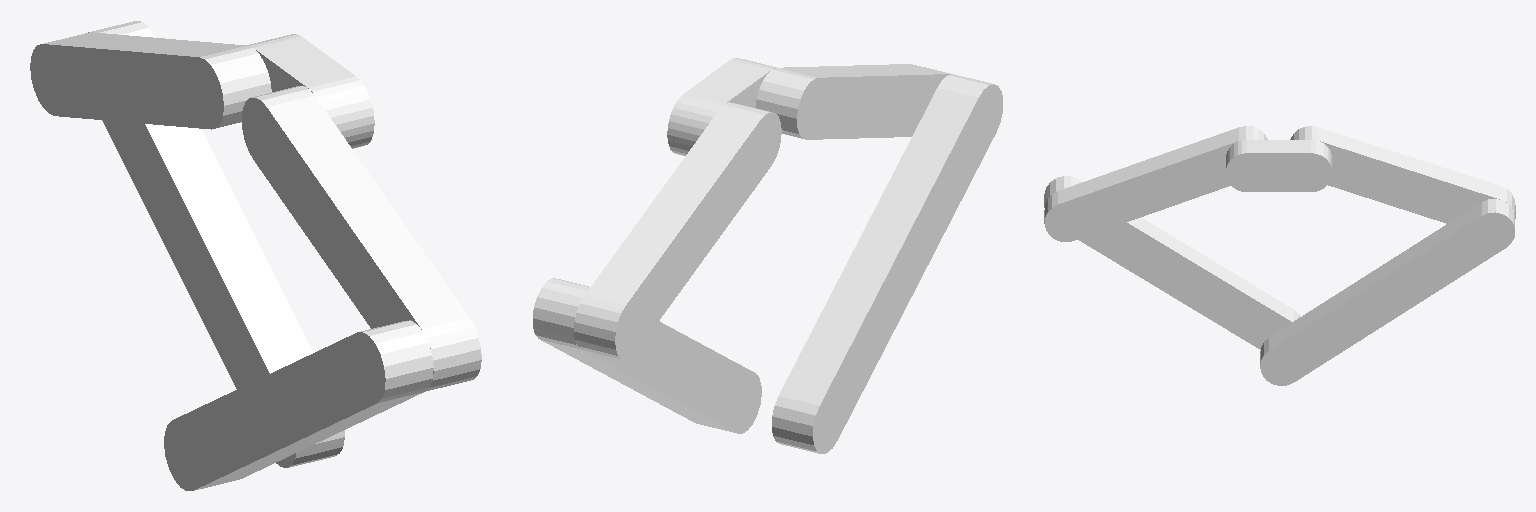
robot.urdf — FiveBarLink:
<?xml version="1.0"?>
<!-- This URDF was automatically created by SolidWorks to URDF Exporter! Originally created by [author] ([email redacted]) 
     Commit Version: 1.6.0-4-g7f85cfe  Build Version: 1.6.7995.38578
     For more information, please see http://wiki.ros.org/sw_urdf_exporter -->
<robot
  name="FiveBarLink">
  <link
    name="base_link">
    <inertial>
      <origin
        xyz="-0.0075 -1.73472347597681E-18 8.67361737988404E-19"
        rpy="0 0 0" />
      <mass
        value="0.0135623889803847" />
      <inertia
        ixx="2.78766795156418E-06"
        ixy="-1.71652986887127E-23"
        ixz="2.95359259330312E-23"
        iyy="6.6710451789183E-07"
        iyz="1.1172040840076E-22"
        izz="2.62915302043677E-06" />
    </inertial>
    <visual>
      <origin
        xyz="0 0 0"
        rpy="0 0 0" />
      <geometry>
        <mesh
          filename="package://five_bar_link/meshes/base_link.STL" />
      </geometry>
      <material
        name="">
        <color
          rgba="1 1 1 1" />
      </material>
    </visual>
    <collision>
      <origin
        xyz="0 0 0"
        rpy="0 0 0" />
      <geometry>
        <mesh
          filename="package://five_bar_link/meshes/base_link.STL" />
      </geometry>
    </collision>
  </link>
  <link
    name="HipLegLeft_Link">
    <inertial>
      <origin
        xyz="0.04238227334368 0.0151242489473611 -0.00750000000000001"
        rpy="0 0 0" />
      <mass
        value="0.0317123889803847" />
      <inertia
        ixx="4.85069223838426E-06"
        ixy="-9.07453097569663E-06"
        ixz="1.8005331985969E-21"
        iyy="2.70417294826785E-05"
        iyz="6.13688289411776E-22"
        izz="3.07032071342983E-05" />
    </inertial>
    <visual>
      <origin
        xyz="0 0 0"
        rpy="0 0 0" />
      <geometry>
        <mesh
          filename="package://five_bar_link/meshes/HipLegLeft_Link.STL" />
      </geometry>
      <material
        name="">
        <color
          rgba="1 1 1 1" />
      </material>
    </visual>
    <collision>
      <origin
        xyz="0 0 0"
        rpy="0 0 0" />
      <geometry>
        <mesh
          filename="package://five_bar_link/meshes/HipLegLeft_Link.STL" />
      </geometry>
    </collision>
  </link>
  <joint
    name="HipLegLeft_Joint"
    type="revolute">
    <origin
      xyz="-0.03 0.01475 0"
      rpy="-1.5707963267949 0 1.5707963267949" />
    <parent
      link="base_link" />
    <child
      link="HipLegLeft_Link" />
    <axis
      xyz="0 0 1" />
    <limit
      lower="-1"
      upper="1"
      effort="10"
      velocity="5" />
  </joint>
  <link
    name="KneelLegLeft_Link">
    <inertial>
      <origin
        xyz="0.06 3.4417E-15 0.0075"
        rpy="0 0 0" />
      <mass
        value="0.040712" />
      <inertia
        ixx="2.0812E-06"
        ixy="-7.5174E-21"
        ixz="4.9835E-22"
        iyy="6.3446E-05"
        iyz="-1.9216E-22"
        izz="6.4E-05" />
    </inertial>
    <visual>
      <origin
        xyz="0 0 0"
        rpy="0 0 0" />
      <geometry>
        <mesh
          filename="package://five_bar_link/meshes/KneelLegLeft_Link.STL" />
      </geometry>
      <material
        name="">
        <color
          rgba="1 1 1 1" />
      </material>
    </visual>
    <collision>
      <origin
        xyz="0 0 0"
        rpy="0 0 0" />
      <geometry>
        <mesh
          filename="package://five_bar_link/meshes/KneelLegLeft_Link.STL" />
      </geometry>
    </collision>
  </link>
  <joint
    name="KneelLegLeft_Joint"
    type="revolute">
    <origin
      xyz="0.0847645466873584 0.0302484978947234 -0.0299999999999998"
      rpy="0 0 2.53061934905955" />
    <parent
      link="HipLegLeft_Link" />
    <child
      link="KneelLegLeft_Link" />
    <axis
      xyz="0 0 1" />
    <limit
      lower="-1"
      upper="1"
      effort="10"
      velocity="5" />
  </joint>
  <link
    name="HipLegRight_Link">
    <inertial>
      <origin
        xyz="0.04195 -0.016284 -0.0075"
        rpy="0 0 0" />
      <mass
        value="0.031712" />
      <inertia
        ixx="5.3662E-06"
        ixy="9.6706E-06"
        ixz="8.8845E-22"
        iyy="2.6526E-05"
        iyz="-3.9865E-23"
        izz="3.0703E-05" />
    </inertial>
    <visual>
      <origin
        xyz="0 0 0"
        rpy="0 0 0" />
      <geometry>
        <mesh
          filename="package://five_bar_link/meshes/HipLegRight_Link.STL" />
      </geometry>
      <material
        name="">
        <color
          rgba="1 1 1 1" />
      </material>
    </visual>
    <collision>
      <origin
        xyz="0 0 0"
        rpy="0 0 0" />
      <geometry>
        <mesh
          filename="package://five_bar_link/meshes/HipLegRight_Link.STL" />
      </geometry>
    </collision>
  </link>
  <joint
    name="HipLegRight_Joint"
    type="revolute">
    <origin
      xyz="-0.03 -0.01475 0"
      rpy="1.5707963267949 0 -1.5707963267949" />
    <parent
      link="base_link" />
    <child
      link="HipLegRight_Link" />
    <axis
      xyz="0 0 1" />
    <limit
      lower="-1"
      upper="1"
      effort="10"
      velocity="5" />
  </joint>
  <link
    name="KneelLegRight_Link">
    <inertial>
      <origin
        xyz="0.0599999999999992 -3.2612801348364E-15 -0.00749999999999999"
        rpy="0 0 0" />
      <mass
        value="0.0407123889803847" />
      <inertia
        ixx="2.08116701789184E-06"
        ixy="-1.13290656695263E-20"
        ixz="4.72676287344061E-22"
        iyy="6.34457673472769E-05"
        iyz="1.44680980473865E-22"
        izz="6.40002197784043E-05" />
    </inertial>
    <visual>
      <origin
        xyz="0 0 0"
        rpy="0 0 0" />
      <geometry>
        <mesh
          filename="package://five_bar_link/meshes/KneelLegRight_Link.STL" />
      </geometry>
      <material
        name="">
        <color
          rgba="1 1 1 1" />
      </material>
    </visual>
    <collision>
      <origin
        xyz="0 0 0"
        rpy="0 0 0" />
      <geometry>
        <mesh
          filename="package://five_bar_link/meshes/KneelLegRight_Link.STL" />
      </geometry>
    </collision>
  </link>


  <joint
    name="KneelLegRight_Joint"
    type="revolute">
    <origin
      xyz="0.0839009629333024 -0.0325672906282517 0.015"
      rpy="0 0 -2.55402086748479" />
    <parent
      link="HipLegRight_Link" />
    <child
      link="KneelLegRight_Link" />
    <axis
      xyz="0 0 1" />
    <limit
      lower="-1"
      upper="1"
      effort="10"
      velocity="5" />
  </joint>

  <gazebo>

      <joint name='KneelParallelJoint' type='revolute'>
      <pose relative_to='KneelLegRight_Link'>0.120 0 0.0 0 0 0</pose>
      <parent>KneelLegLeft_Link</parent>
      <child>KneelLegRight_Link</child>
      <axis>
        <xyz>0 0 1</xyz>
        <limit>
          <lower>-2</lower>
          <upper>2</upper>
          <effort>20</effort>
          <velocity>30</velocity>
        </limit>
      </axis>
      <dynamic>
        <friction>0.01</friction>
        <damping>0.01</damping>
      </dynamic>
    </joint>

  </gazebo>

  <gazebo>

    <plugin name="gazebo_ros_joint_state_publisher"
      filename="libgazebo_ros_joint_state_publisher.so">
      <ros>
        <namespace>/</namespace>
        <argument>joint_states:=joint_states</argument>
      </ros>
      <update_rate>10</update_rate>
      <joint_name>HipLegLeft_Joint</joint_name>
      <joint_name>HipLegRight_Joint</joint_name>
      <joint_name>KneelLegLeft_Joint</joint_name>
      <joint_name>KneelLegRight_Joint</joint_name>
      <joint_name>KneelParallelJoint</joint_name>


    </plugin>

  </gazebo>

</robot>

--- What the picture shows (computed from the rendered views, not written in the file) ---
3 views of the same robot in one strip: view 1: azimuth 30°, elevation 25°; view 2: azimuth 150°, elevation 25°; view 3: azimuth 270°, elevation 25° (orthographic).
Robot: FiveBarLink — 5 links, 4 joints (4 revolute); root link base_link; default pose: every joint at zero.
Visible links, largest first — view 1: HipLegRight_Link, KneelLegLeft_Link, KneelLegRight_Link, HipLegLeft_Link, base_link; view 2: KneelLegRight_Link, HipLegLeft_Link, KneelLegLeft_Link, HipLegRight_Link, base_link; view 3: KneelLegLeft_Link, KneelLegRight_Link, HipLegRight_Link, HipLegLeft_Link, base_link.
Boxes of the visible links, box(x1,y1,x2,y2) form: HipLegRight_Link: box(242, 86, 481, 390); KneelLegLeft_Link: box(88, 21, 344, 467); KneelLegRight_Link: box(164, 320, 433, 490); HipLegLeft_Link: box(30, 32, 271, 129); base_link: box(247, 34, 374, 148); KneelLegRight_Link: box(772, 74, 1002, 453); HipLegLeft_Link: box(574, 102, 781, 359); KneelLegLeft_Link: box(533, 278, 761, 433); HipLegRight_Link: box(756, 64, 950, 139); base_link: box(667, 58, 776, 155); KneelLegLeft_Link: box(1260, 199, 1514, 385); KneelLegRight_Link: box(1044, 176, 1299, 349); HipLegRight_Link: box(1044, 126, 1267, 241); HipLegLeft_Link: box(1290, 126, 1515, 223); base_link: box(1226, 140, 1331, 191).
Bounding box of the posed robot: 0.045 × 0.2181 × 0.1191 m (x, y, z).
5 mesh visuals loaded from 5 distinct referenced files (5 binary STL).